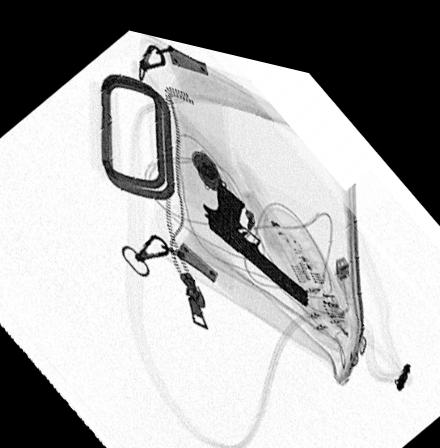Gun: (201, 170, 309, 292)
